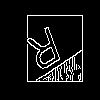R: (25, 25, 66, 82)
